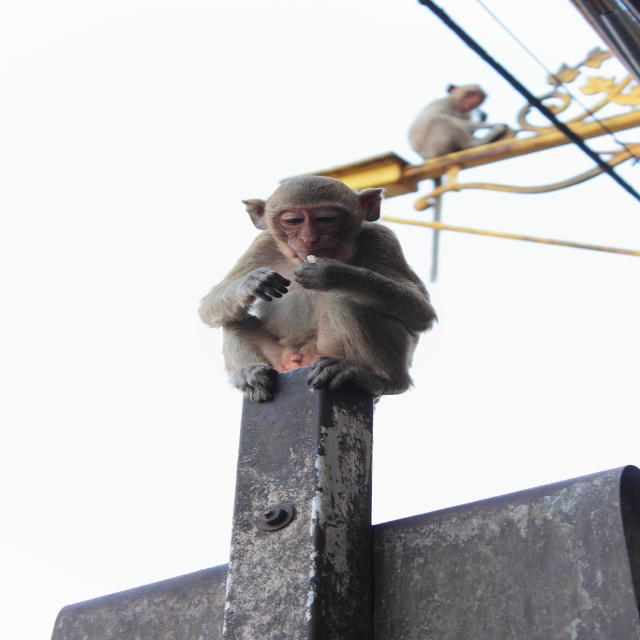Monkey: (208, 176, 450, 404), (402, 78, 537, 158)
